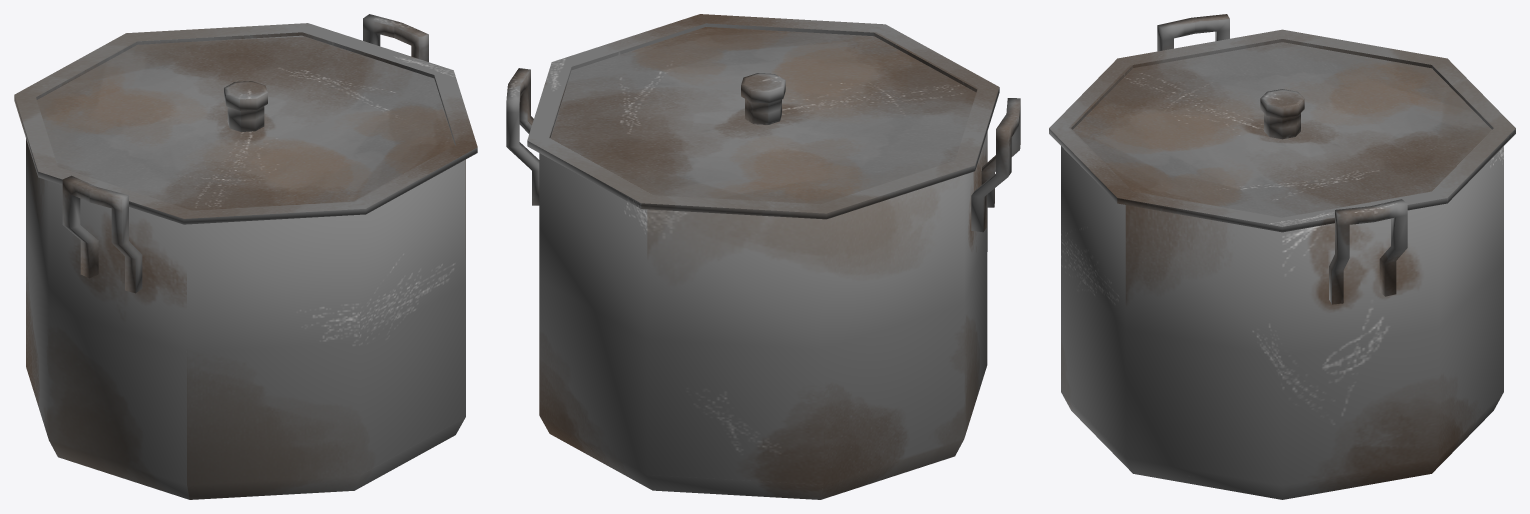
File: olla_.fbx
3 renders of one model, left to right at view 1: azimuth 30°, elevation 25°; view 2: azimuth 150°, elevation 25°; view 3: azimuth 270°, elevation 25°, orthographic. The views are drawn at different scales.
Parts seen in each view (by area): view 1: Olla_term; view 2: Olla_term; view 3: Olla_term.
Boxes of the visible parts, x1,y1,x2,y2 form: Olla_term: (14, 14, 477, 499); Olla_term: (506, 14, 1020, 499); Olla_term: (1049, 14, 1515, 499).
Size of the model in its own units: 38.9 by 28.24 by 38.19.
Materials: 1 (1 with a texture image).
